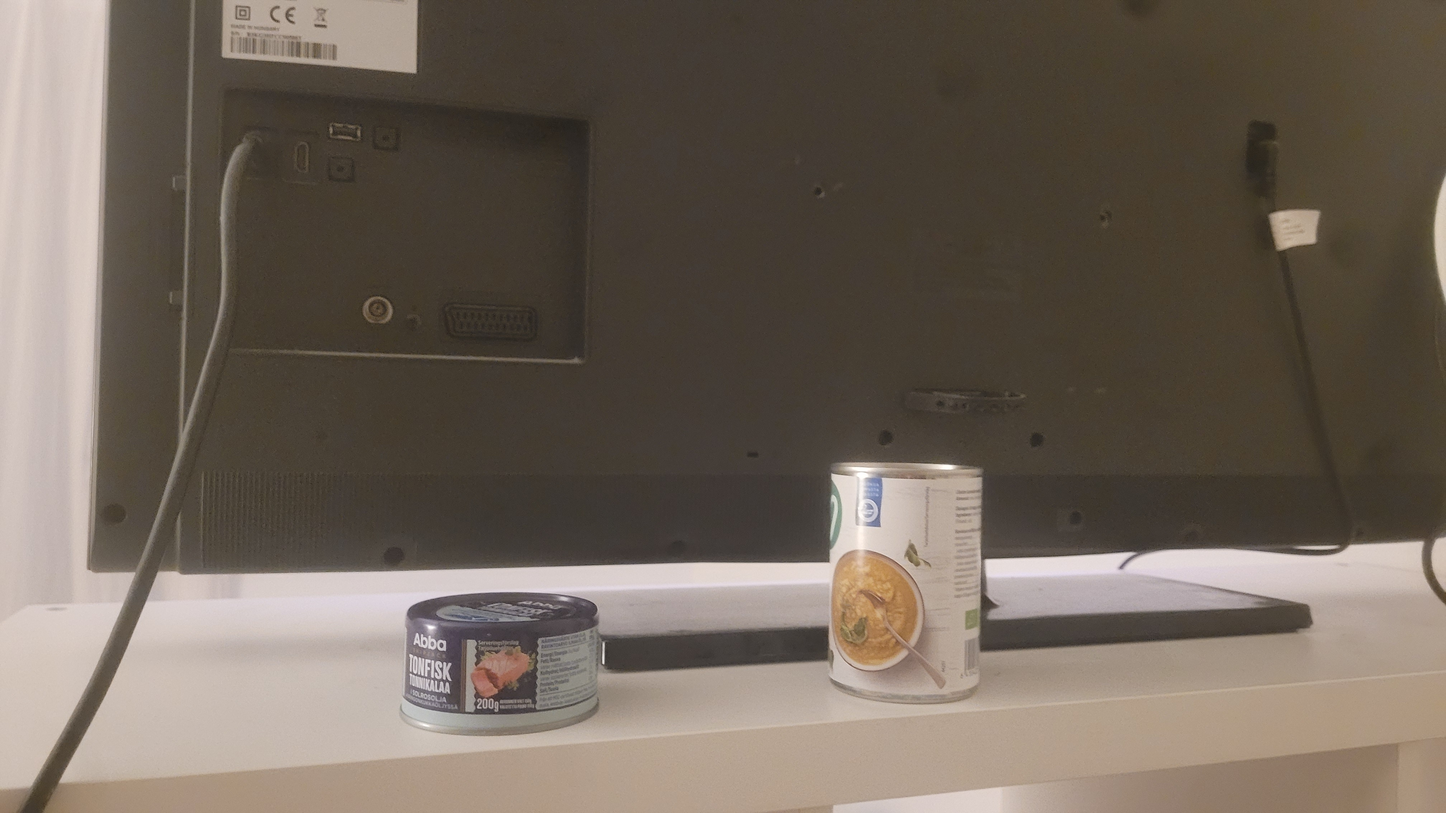Konservburk: (829, 462, 983, 705), (398, 591, 600, 737)
